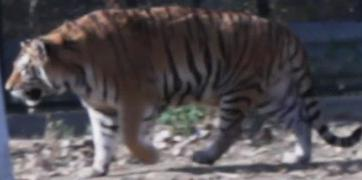tiger: (6, 6, 319, 175)
